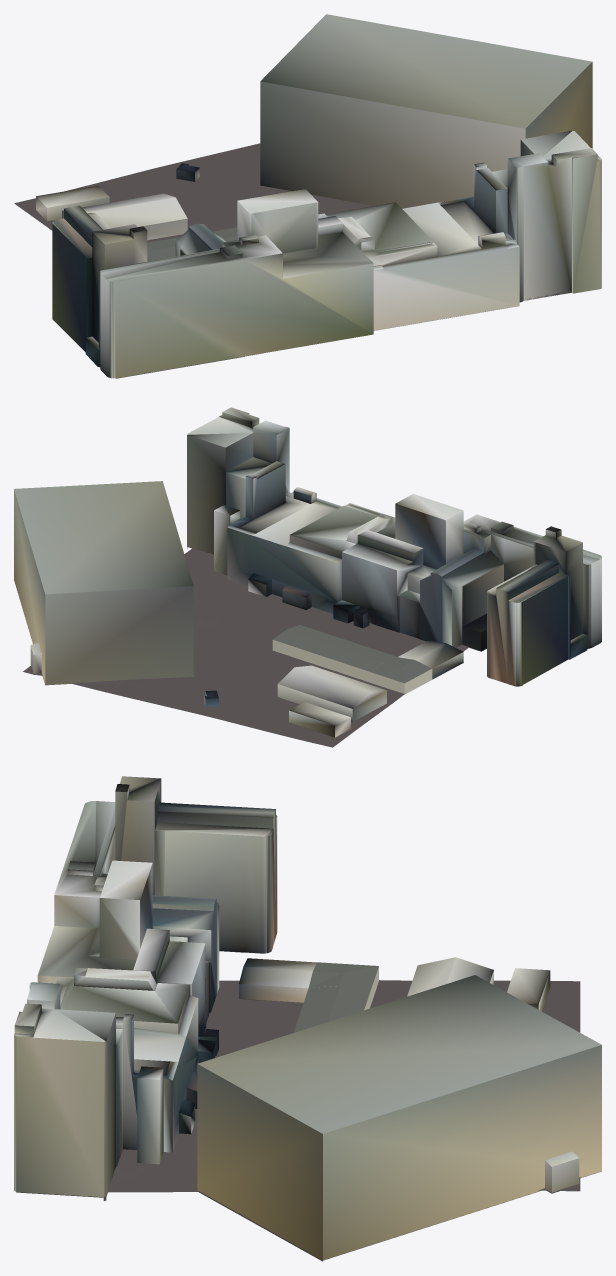
3 views of the same model, one above another, from view 1: azimuth 30°, elevation 25°; view 2: azimuth 150°, elevation 25°; view 3: azimuth 270°, elevation 25° (orthographic). The views are drawn at different scales.
Visible parts, largest first — view 1: c_m11_p12; view 2: c_m11_p12; view 3: c_m11_p12.
Boxes of the visible parts, bbox=[...] form: c_m11_p12: bbox=[14, 14, 601, 378]; c_m11_p12: bbox=[14, 407, 601, 747]; c_m11_p12: bbox=[14, 776, 601, 1261].
Size of the model in its own units: 208 by 47.67 by 151.
